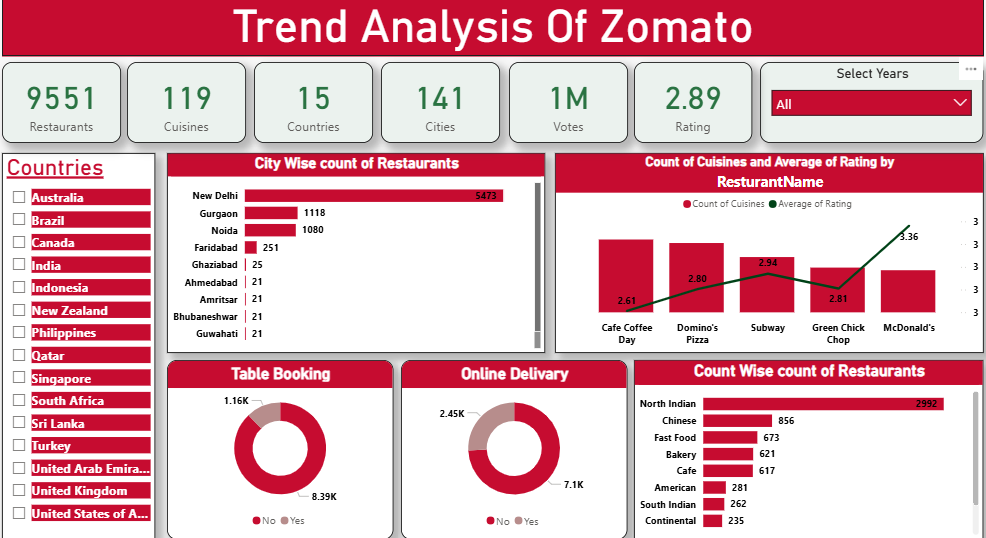

What the dashboard file says about the page in this screenshot:
{"tool":"powerbi","page":{"name":"Page 1","canvas":[1280,720],"ordinal":0},"visuals":[{"type":"slicer","title":"Countries","fields":{"Values":["restaurant countries.country_name"]},"box":[7.8,211.1,197.4,496],"z":0},{"type":"clusteredBarChart","title":"City Wise count of Restaurants","fields":{"Category":["restaurant restaurant_data.City"],"Y":["CountNonNull(restaurant restaurant_data.RestaurantID)"]},"box":[219.8,211.1,486.3,256.8],"z":1000},{"type":"lineClusteredColumnComboChart","title":"Count of Cuisines and Average of Rating by ","fields":{"Category":["restaurant restaurant_data.RestaurantName"],"Y":["CountNonNull(restaurant restaurant_data.Cuisines)"],"Y2":["Avg(restaurant restaurant_data.Rating)"]},"box":[718.8,211.1,550.5,256.8],"z":2000},{"type":"slicer","title":"Select Years","fields":{"Values":["restaurant restaurant_data.Datekey_Opening.Variation.Date Hierarchy.Year"]},"box":[982.1,94.3,287.3,104.1],"z":3000},{"type":"donutChart","title":"Table Booking","fields":{"Category":["restaurant restaurant_data.Has_Table_booking"],"Y":["CountNonNull(restaurant restaurant_data.RestaurantID)"]},"box":[219.8,476.6,290.8,230.5],"z":4000},{"type":"donutChart","title":"Online Delivary","fields":{"Category":["restaurant restaurant_data.Has_Online_delivery"],"Y":["CountNonNull(restaurant restaurant_data.RestaurantID)"]},"box":[520.7,476.7,290.9,230.7],"z":5000},{"type":"barChart","title":"Count Wise count of Restaurants","fields":{"Y":["CountNonNull(restaurant restaurant_data.RestaurantID)"],"Category":["restaurant restaurant_data.Cuisines_1"]},"box":[819.9,476.6,449.4,230.5],"z":6000},{"type":"card","title":"Restaurant","fields":{"Values":["CountNonNull(restaurant restaurant_data.RestaurantID)"]},"box":[8.1,94.3,152.6,104.1],"z":7000},{"type":"card","fields":{"Values":["Count(restaurant restaurant_data.Cuisines_1)"]},"box":[168.8,94.3,152.6,104.1],"z":8000},{"type":"card","fields":{"Values":["CountNonNull(restaurant countries.country_name)"]},"box":[331.3,94.3,152.6,104.1],"z":9000},{"type":"card","fields":{"Values":["Count(restaurant restaurant_data.City)"]},"box":[494.7,94.3,152.6,104.1],"z":10000},{"type":"card","fields":{"Values":["Sum(restaurant restaurant_data.Votes)"]},"box":[659,94.3,152.6,104.1],"z":11000},{"type":"card","fields":{"Values":["Avg(restaurant restaurant_data.Rating)"]},"box":[819.7,94.3,151.7,104.1],"z":12000},{"type":"textbox","title":"Trend Analysis Of Zomato","box":[7.8,12.6,1261.5,73.9],"z":13000}]}

Visuals, with their boxes in screenshot pixels (x1, y1, x2, y2):
"Countries" slicer: (left=3, top=149, right=155, bottom=529)
"City Wise count of Restaurants" clusteredBarChart: (left=166, top=149, right=538, bottom=345)
"Count of Cuisines and Average of Rating by " lineClusteredColumnComboChart: (left=548, top=149, right=969, bottom=345)
"Select Years" slicer: (left=749, top=59, right=969, bottom=139)
"Table Booking" donutChart: (left=166, top=352, right=388, bottom=529)
"Online Delivary" donutChart: (left=396, top=352, right=619, bottom=529)
"Count Wise count of Restaurants" barChart: (left=625, top=352, right=969, bottom=529)
"Restaurant" card: (left=4, top=59, right=120, bottom=139)
card - Count(restaurant restaurant_data.Cuisines_1): (left=127, top=59, right=244, bottom=139)
card - CountNonNull(restaurant countries.country_name): (left=251, top=59, right=368, bottom=139)
card - Count(restaurant restaurant_data.City): (left=376, top=59, right=493, bottom=139)
card - Sum(restaurant restaurant_data.Votes): (left=502, top=59, right=619, bottom=139)
card - Avg(restaurant restaurant_data.Rating): (left=625, top=59, right=741, bottom=139)
"Trend Analysis Of Zomato" textbox: (left=3, top=0, right=969, bottom=53)
